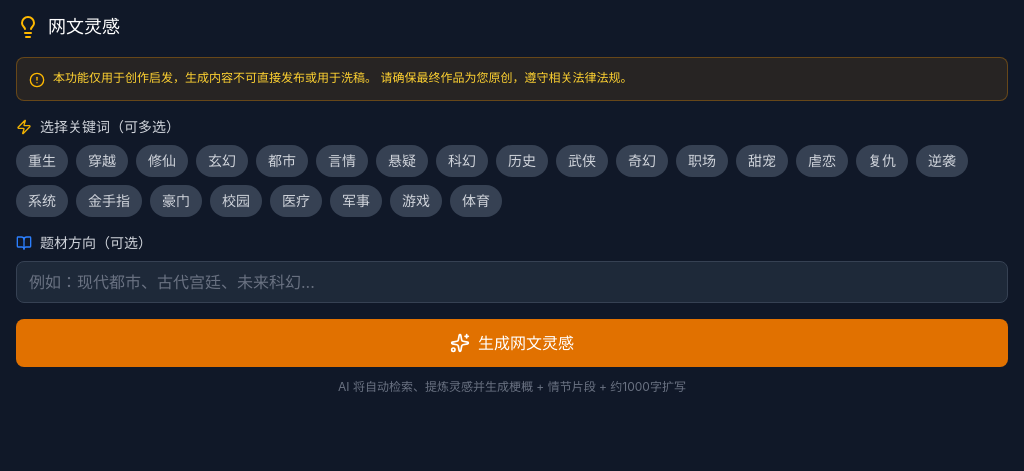
it: WebNovelInspiration Component › shows validation error when generating without keyword or direction
Click the button "生成网文灵感": (512,343) [16,319,1008,367]
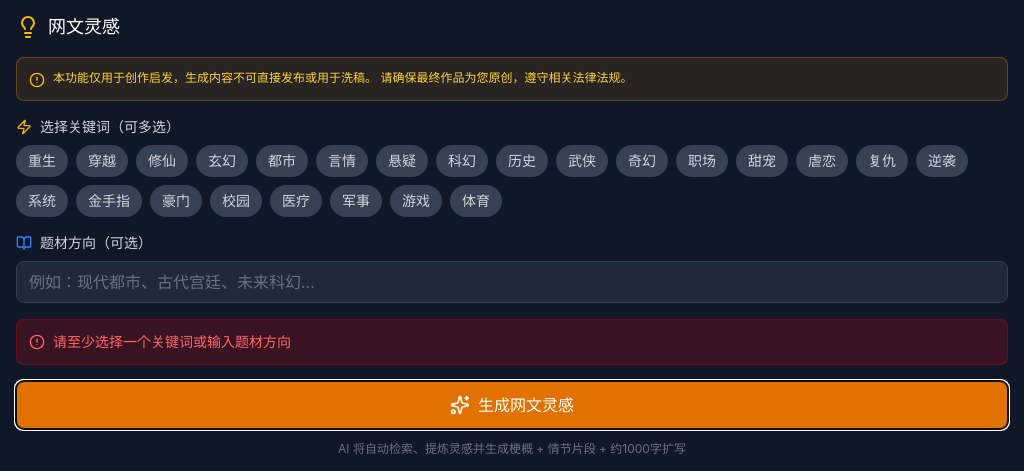
Now the text "请至少选择一个关键词或输入题材方向" is shown, box [16,319,1008,365]
